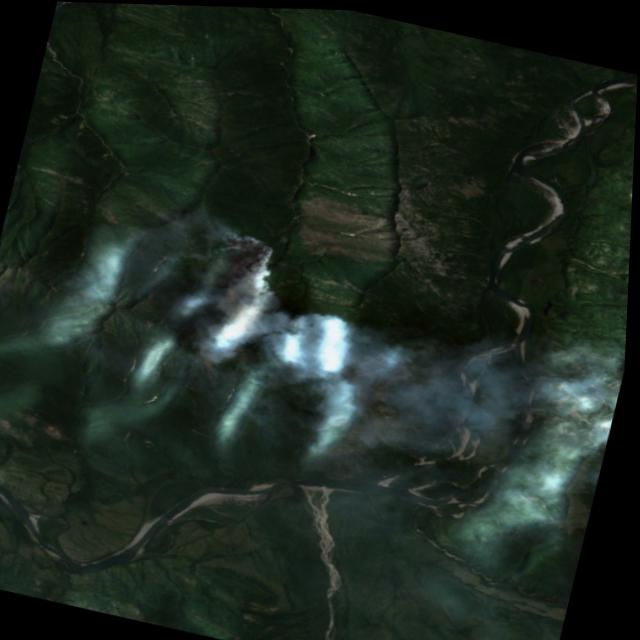fire: (206, 225, 289, 305)
